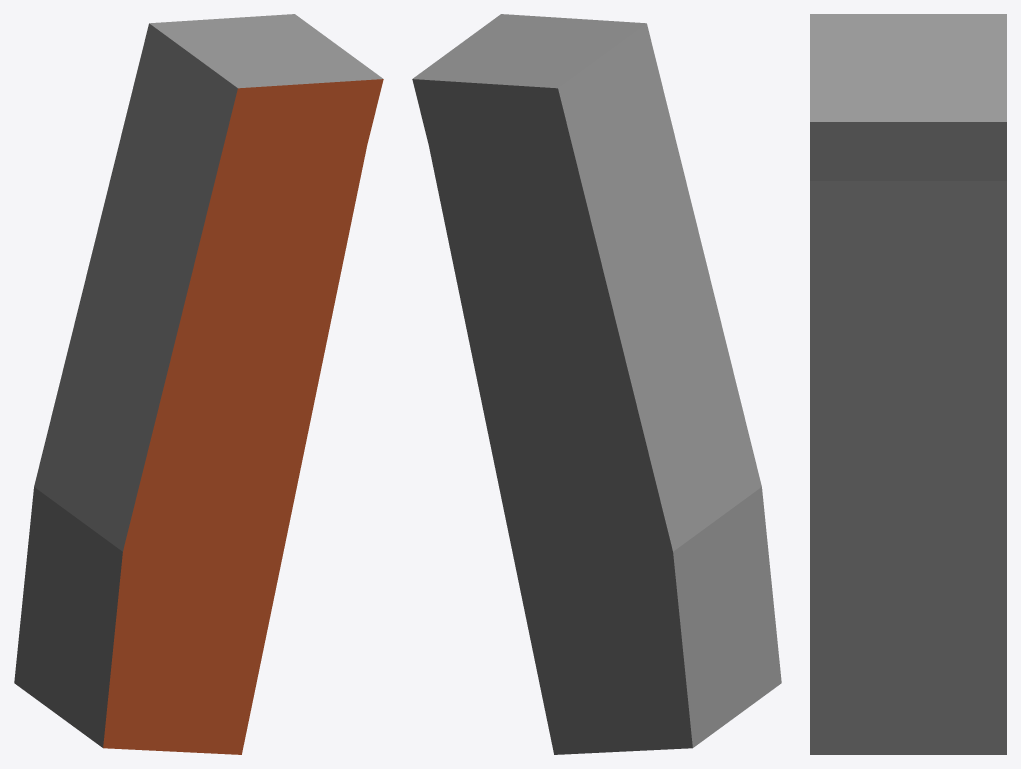
The model's file is construction_1441_assumed_A_Casa_h6m.obj.
The picture shows the model from 3 angles, left to right: view 1: azimuth 30°, elevation 25°; view 2: azimuth 150°, elevation 25°; view 3: azimuth 270°, elevation 25°; orthographic projection. The views are drawn at different scales.
Parts seen in each view (by area): view 1: construction_1441_assumed_A_Casa; view 2: construction_1441_assumed_A_Casa; view 3: construction_1441_assumed_A_Casa.
Part boxes in pixels (x1,y1,x2,y2): construction_1441_assumed_A_Casa: [14, 14, 383, 754]; construction_1441_assumed_A_Casa: [412, 14, 781, 754]; construction_1441_assumed_A_Casa: [810, 14, 1006, 754].
Bounding box in the file's own units: 10.94 × 24.87 × 6.
